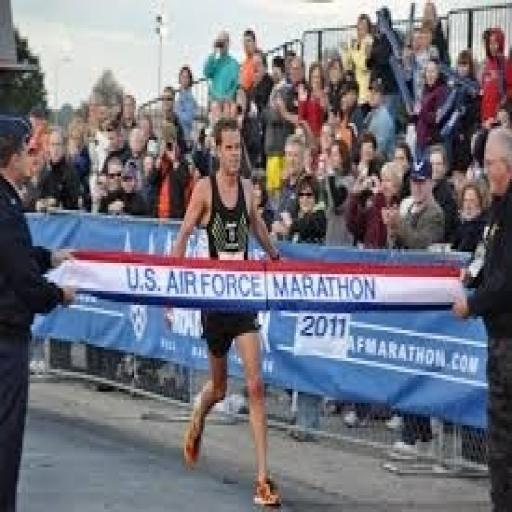running: (162, 115, 287, 509)
